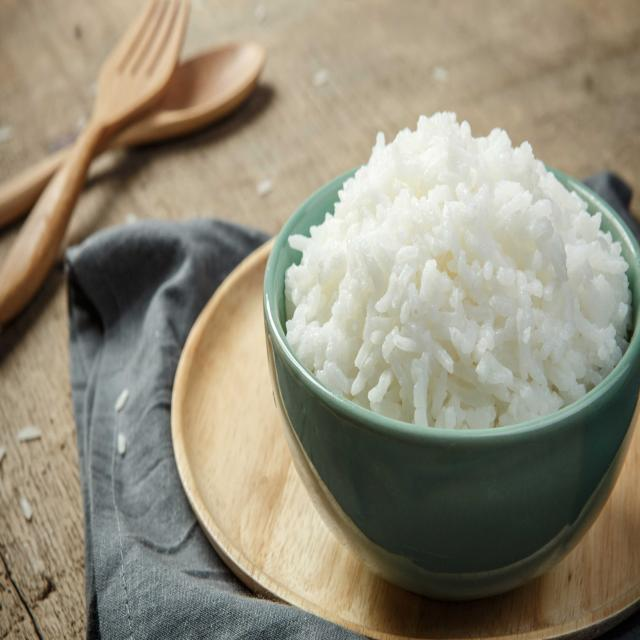Wet Waste: (275, 101, 640, 468)
